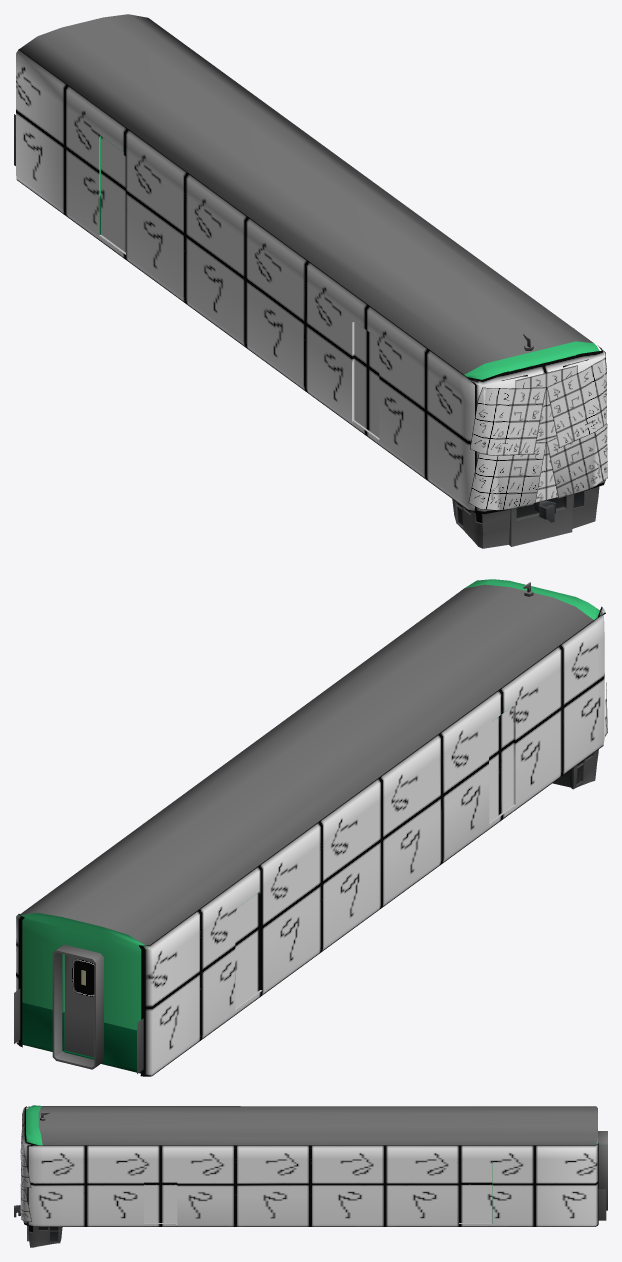
3 views of the same model, one above another, from view 1: azimuth 30°, elevation 25°; view 2: azimuth 150°, elevation 25°; view 3: azimuth 270°, elevation 25° (orthographic). The views are drawn at different scales.
Parts seen in each view (by area): view 1: in, RAIN, obj10, obj12, obj14, obj15, obj16, obj8, MI_END, MI, MIC; view 2: in, MI_END, obj15, obj8, obj14, obj12, obj10, obj16, MI; view 3: in, obj12, obj10, obj14, obj15, obj8, obj16, MI_END, MI, RAIN, MIC.
Part boxes in pixels (bbox=[...]): in: bbox=[14, 14, 599, 548]; RAIN: bbox=[468, 358, 607, 510]; obj10: bbox=[305, 261, 368, 435]; obj12: bbox=[245, 217, 307, 391]; obj14: bbox=[185, 173, 247, 347]; obj15: bbox=[125, 129, 187, 303]; obj16: bbox=[65, 85, 127, 259]; obj8: bbox=[366, 305, 428, 479]; MI_END: bbox=[16, 49, 67, 215]; MI: bbox=[426, 348, 601, 511]; MIC: bbox=[467, 346, 605, 514]; in: bbox=[14, 579, 599, 1073]; MI_END: bbox=[16, 910, 201, 1076]; obj15: bbox=[259, 822, 321, 996]; obj8: bbox=[499, 645, 562, 819]; obj14: bbox=[319, 777, 381, 952]; obj12: bbox=[379, 733, 442, 907]; obj10: bbox=[439, 689, 502, 863]; obj16: bbox=[198, 865, 261, 1040]; MI: bbox=[560, 612, 604, 775]; in: bbox=[14, 1105, 607, 1247]; obj12: bbox=[235, 1145, 310, 1226]; obj10: bbox=[160, 1145, 235, 1226]; obj14: bbox=[310, 1145, 384, 1226]; obj15: bbox=[385, 1145, 459, 1226]; obj8: bbox=[86, 1145, 160, 1226]; obj16: bbox=[460, 1145, 534, 1226]; MI_END: bbox=[534, 1143, 598, 1226]; MI: bbox=[21, 1114, 85, 1226]; RAIN: bbox=[20, 1130, 31, 1221]; MIC: bbox=[22, 1106, 37, 1225].
Bounding box in the file's own units: 6.58 × 8.81 × 39.7.
40 materials, 38 textured.
